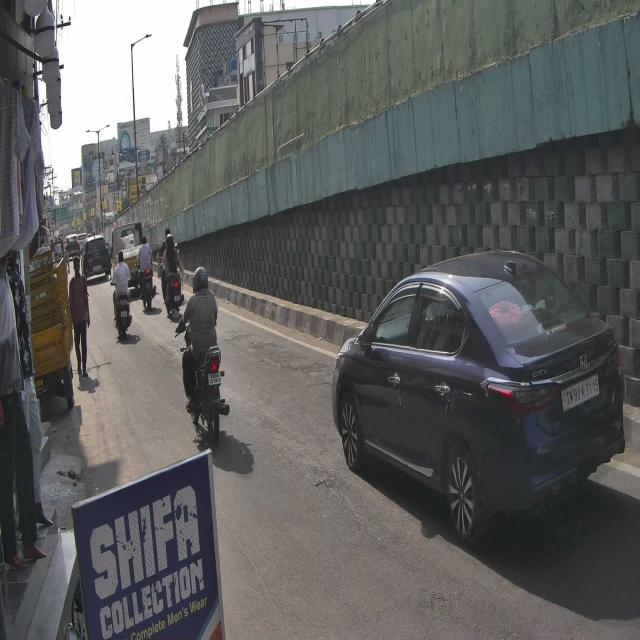single_rider: (175, 267, 231, 446)
